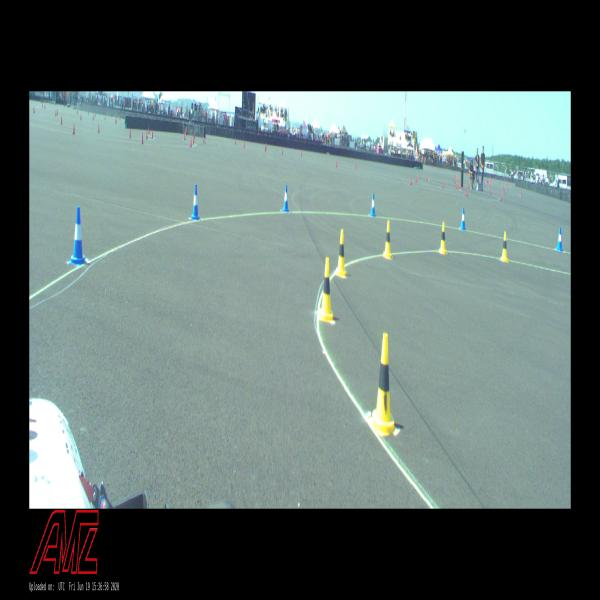blue_cone: (68, 207, 86, 265), (190, 184, 200, 220), (282, 185, 289, 212), (556, 228, 563, 251), (370, 193, 376, 217), (460, 208, 466, 230)
yellow_cone: (369, 333, 397, 436), (318, 258, 334, 321), (336, 230, 346, 277), (383, 220, 393, 259), (438, 222, 447, 254), (500, 232, 508, 262)
